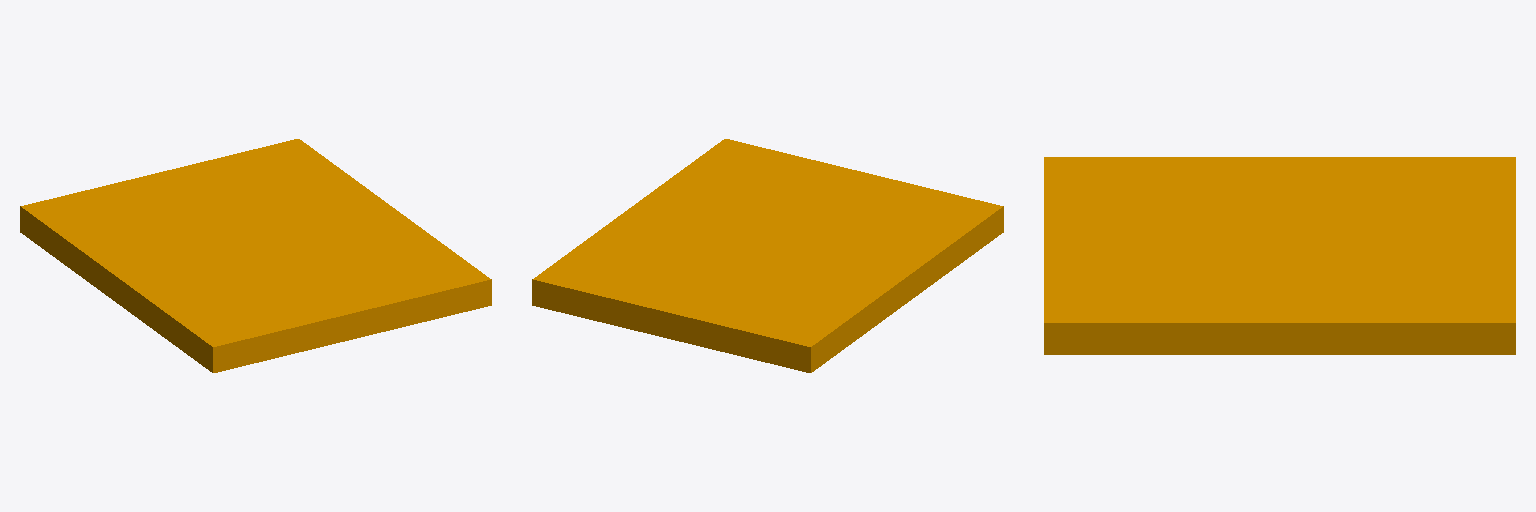
URDF robot description (DockingStation):
<?xml version="1.0"?>
<robot name="DockingStation">
    <link name="base_link">
        <visual>
            <geometry>
                <mesh filename="dstop.stl" scale="1 1 1"/>
            </geometry>
            <material name="blue"/>
        </visual>
        <collision>
            <geometry>
                <mesh filename="dstop.stl" scale="1 1 1"/>
            </geometry>
        </collision>
    </link>
</robot>

--- Render facts (derived) ---
Views: 3 orthographic renders of the robot side by side, from view 1: azimuth 30°, elevation 25°; view 2: azimuth 150°, elevation 25°; view 3: azimuth 270°, elevation 25°.
Robot: DockingStation — 1 links, 0 joints (none); root link base_link; default pose: all joints at 0.
Links seen in each view (by area): view 1: base_link; view 2: base_link; view 3: base_link.
Link boxes in pixels (x1=…): base_link: x1=20, y1=139, x2=491, y2=372; base_link: x1=532, y1=139, x2=1003, y2=372; base_link: x1=1044, y1=157, x2=1515, y2=354.
Bounding box of the posed robot: 0.4238 × 0.508 × 0.0381 m (x, y, z).
Meshes: 1 distinct files referenced, 1 mesh visuals loaded (1 binary STL).